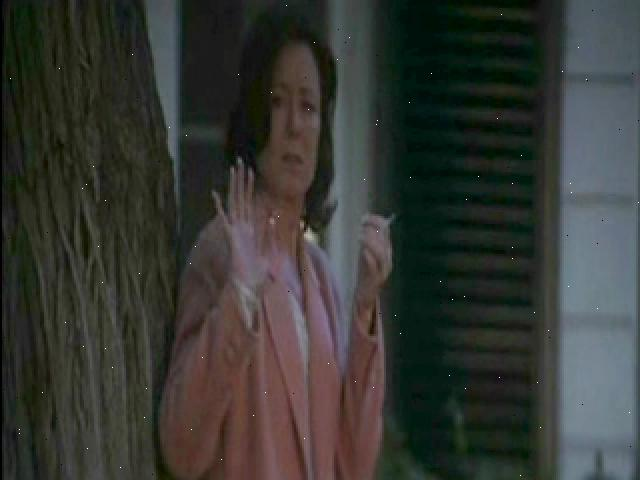T: (156, 15, 393, 480)
